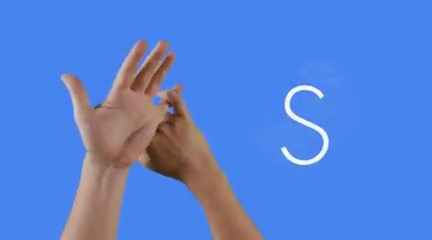S: (53, 28, 225, 188)
